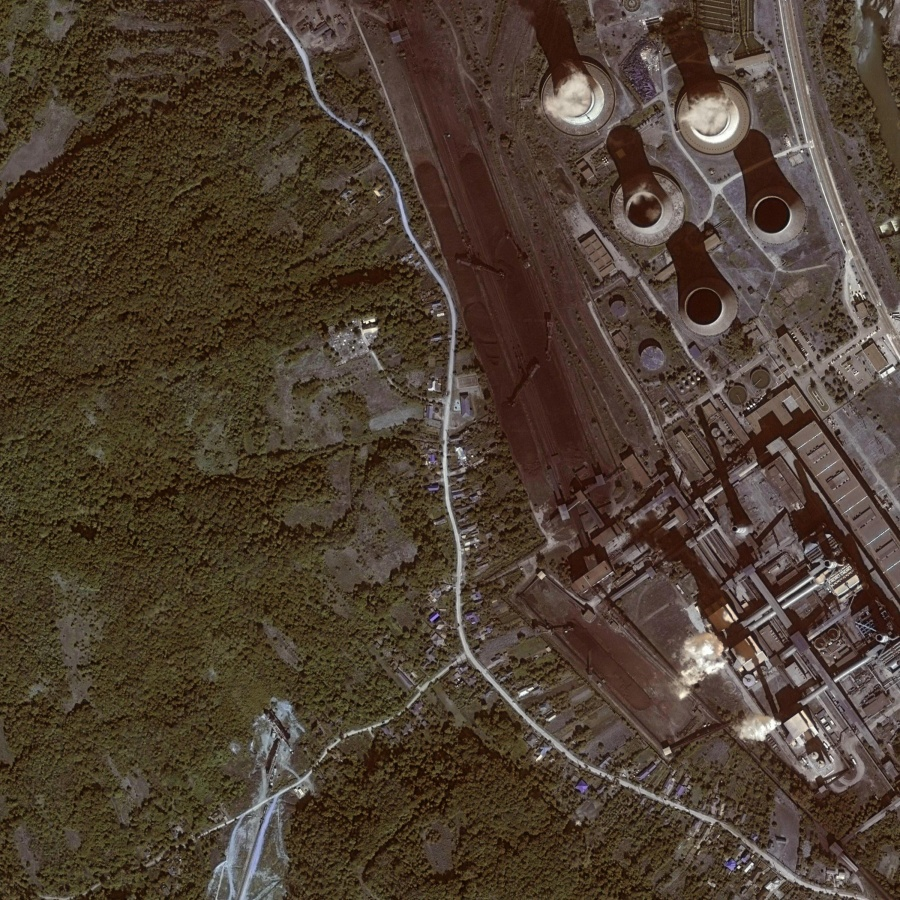PowerPlant: (564, 541, 779, 770)
